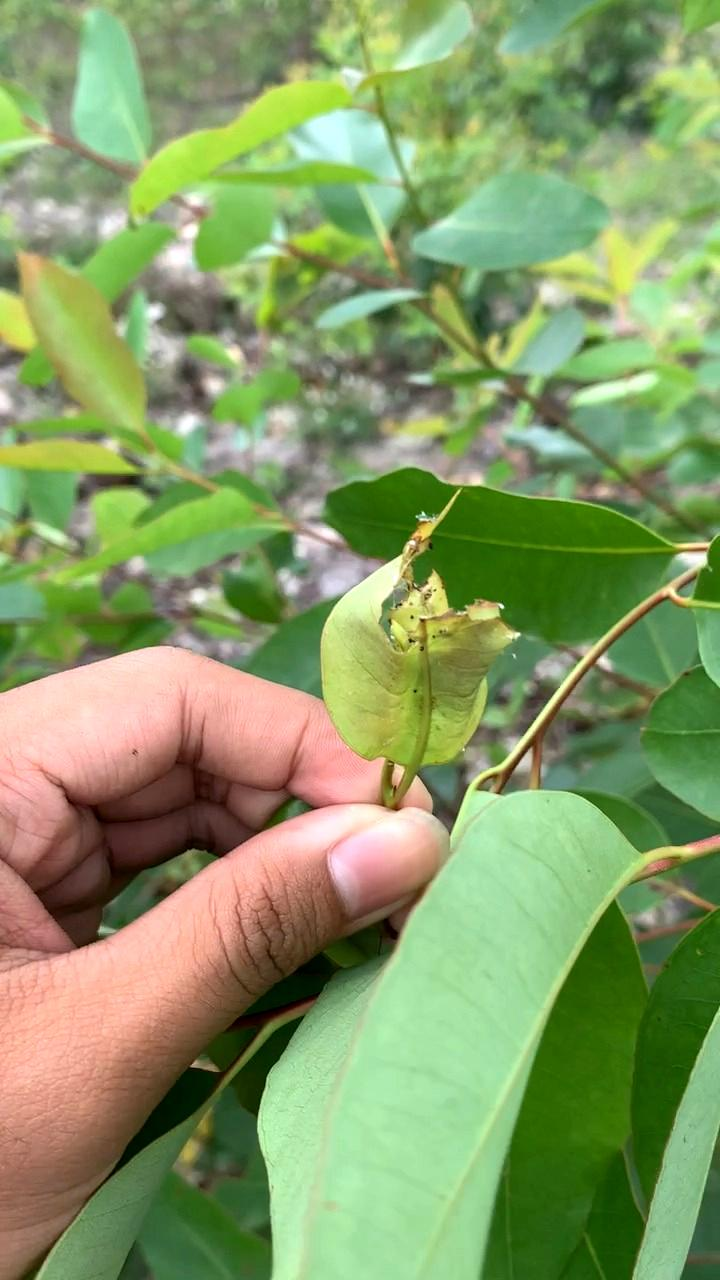Leaf Roller - Leaf: (318, 516, 501, 783)
